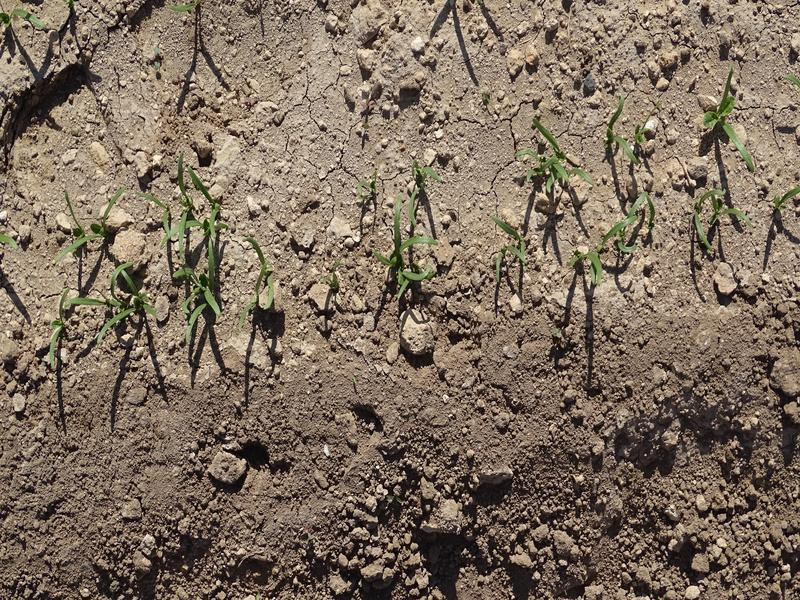Espinaca: (155, 168, 236, 349), (60, 211, 146, 344), (379, 158, 438, 297), (580, 194, 653, 282), (516, 126, 599, 201), (690, 86, 757, 166), (685, 182, 748, 258), (602, 106, 659, 168), (242, 241, 283, 316), (491, 212, 531, 270), (773, 175, 800, 213)
